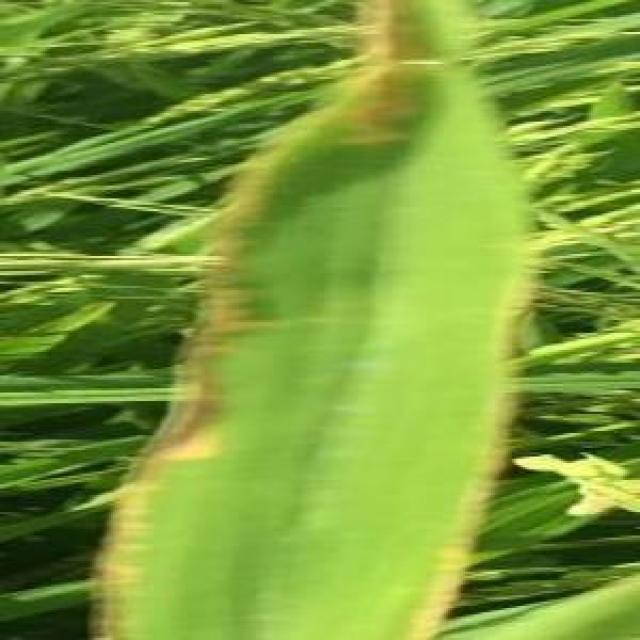Bacterial_Blight: (145, 0, 420, 457)
